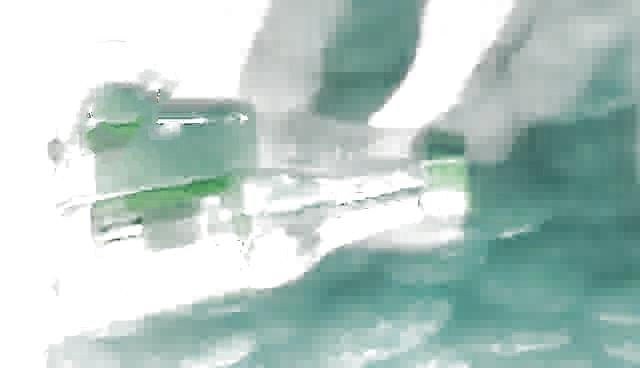Plastic: (44, 141, 476, 328)
